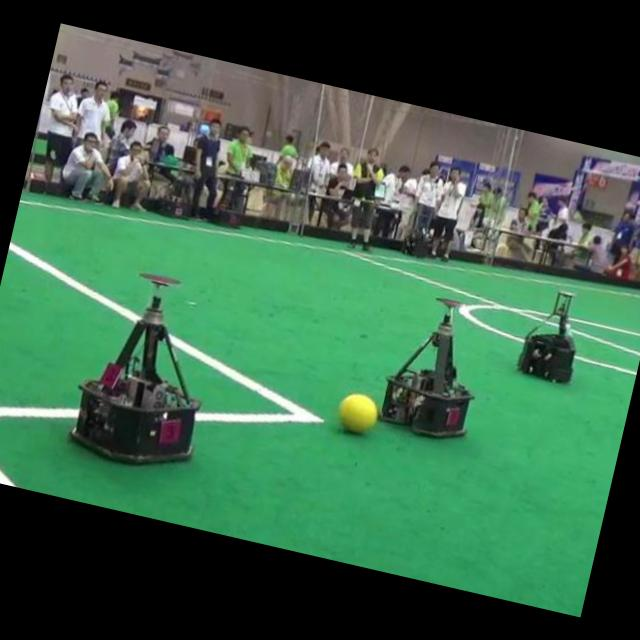ball: (338, 393, 377, 433)
robot: (70, 273, 199, 463), (380, 299, 471, 436), (517, 291, 574, 381)
